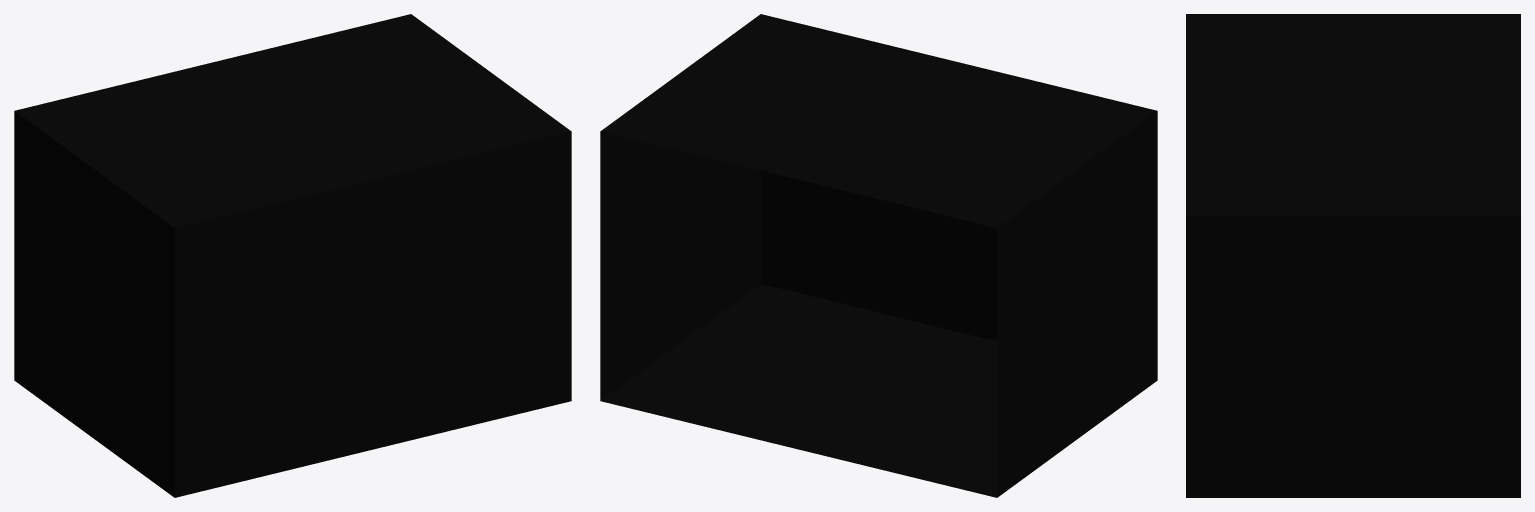
The picture shows the model from 3 angles, left to right: view 1: azimuth 30°, elevation 25°; view 2: azimuth 150°, elevation 25°; view 3: azimuth 270°, elevation 25°; orthographic projection. The views are drawn at different scales.
Visible parts, largest first — view 1: Box001; view 2: Box001; view 3: Box001.
Boxes of the visible parts, x1,y1,x2,y2 form: Box001: (14, 14, 571, 497); Box001: (600, 14, 1157, 497); Box001: (1186, 14, 1520, 497).
Size of the model in its own units: 20 by 13 by 14.
